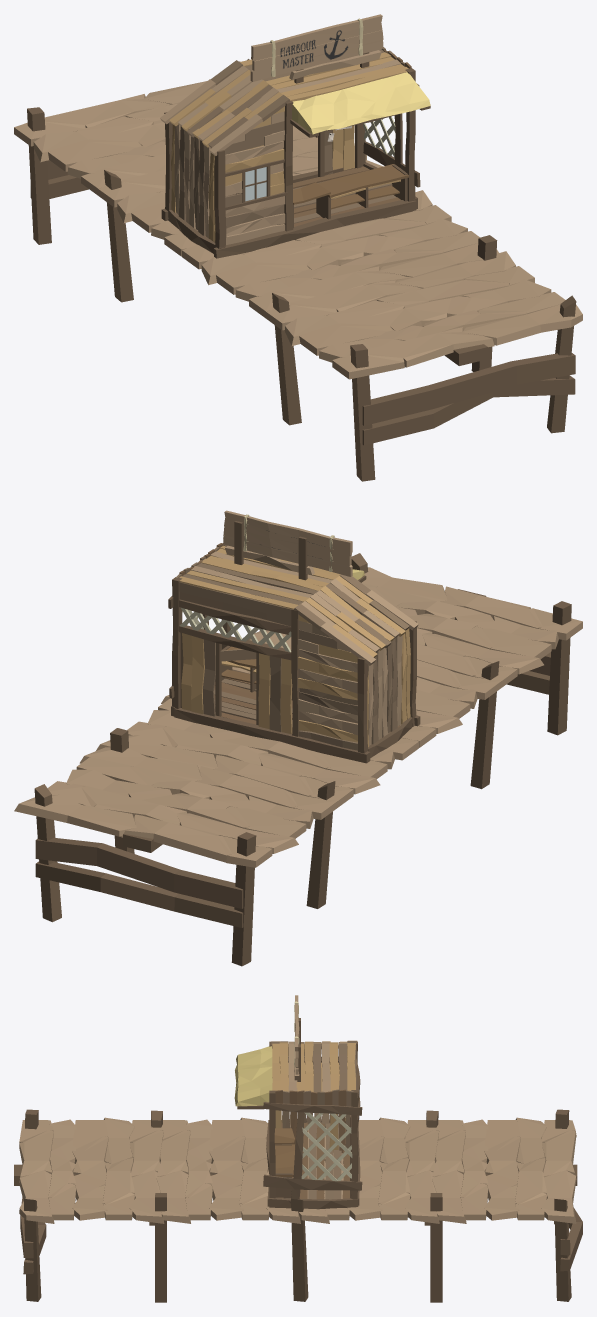
The model's file is Harbour Master.fbx.
3 renders of one model, top to bottom at view 1: azimuth 30°, elevation 25°; view 2: azimuth 150°, elevation 25°; view 3: azimuth 270°, elevation 25°, orthographic. The views are drawn at different scales.
Visible parts, largest first — view 1: Platform_7, Harbour_Master; view 2: Platform_7, Harbour_Master; view 3: Platform_7, Harbour_Master.
Part boxes in pixels (<box>): Platform_7: <box>14,59,582,481</box>; Harbour_Master: <box>160,14,430,258</box>; Platform_7: <box>14,553,582,966</box>; Harbour_Master: <box>168,510,420,763</box>; Platform_7: <box>14,1109,582,1302</box>; Harbour_Master: <box>234,995,362,1209</box>.
Size of the model in its own units: 524 by 595 by 1238.
Materials: 1 (1 with a texture image).
